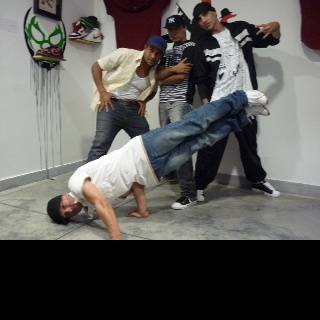without_mask: (58, 195, 82, 219), (144, 45, 163, 66), (197, 10, 216, 30), (167, 24, 184, 42)
